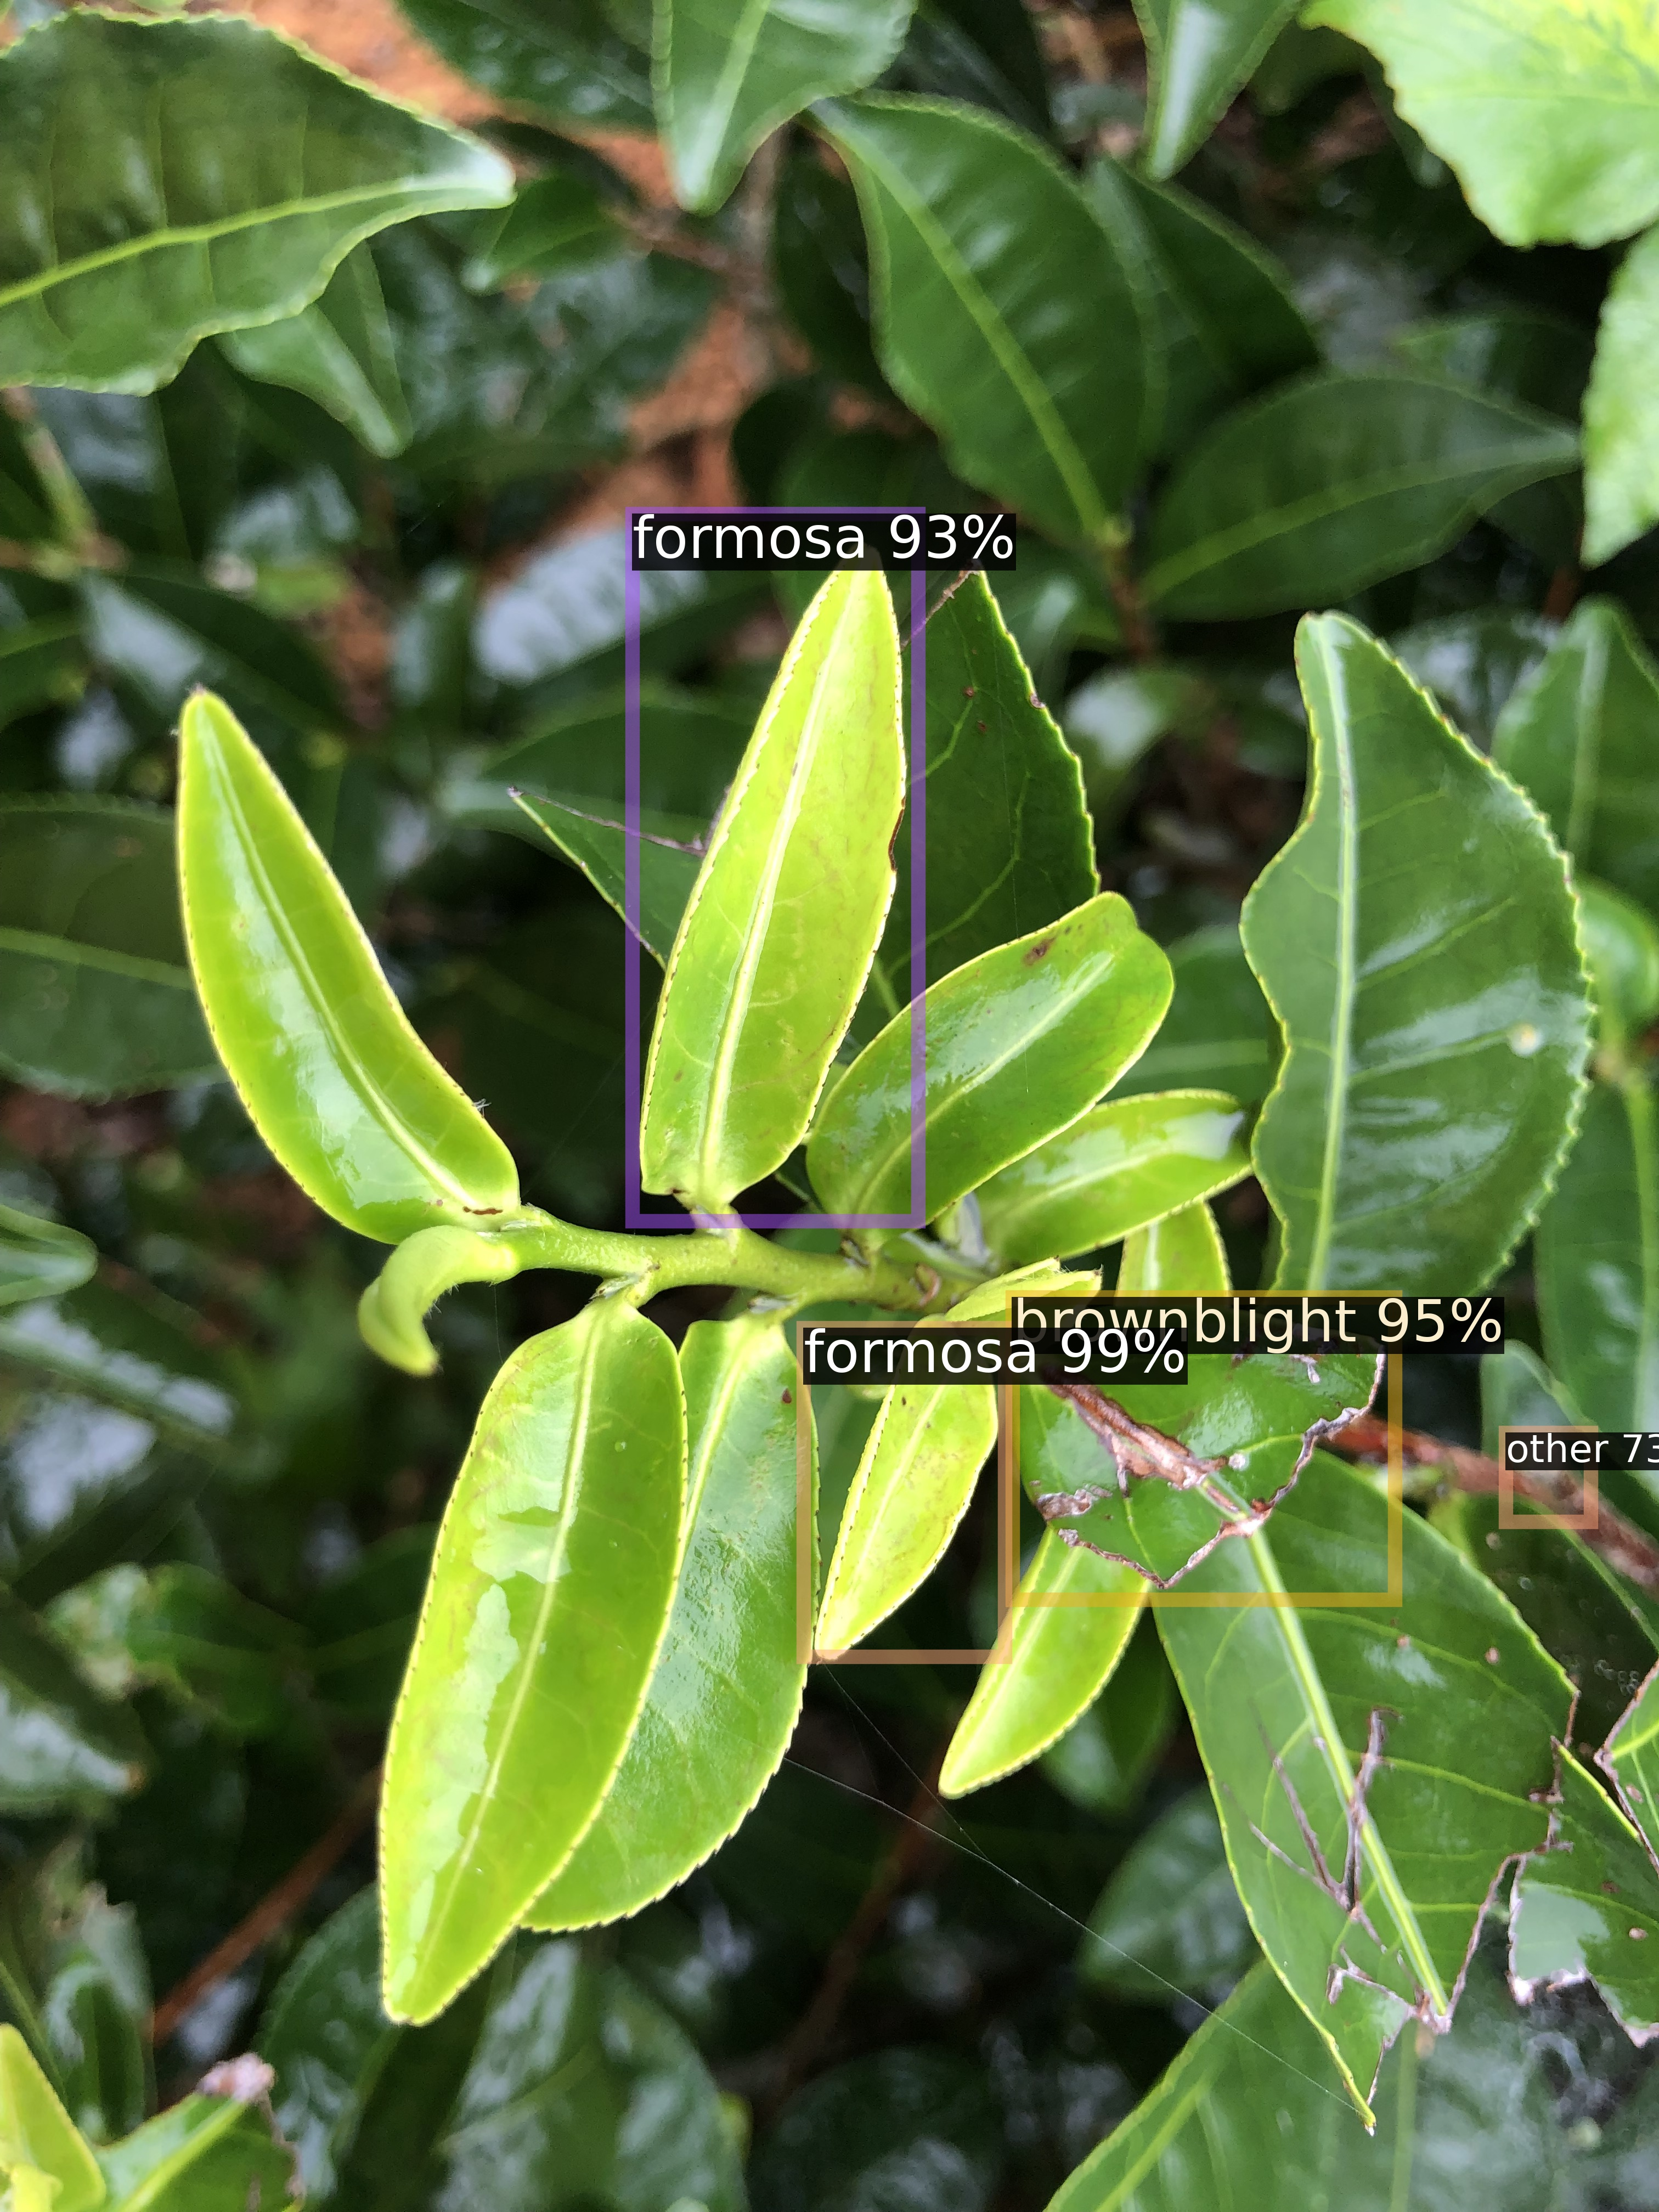brownblight: (1012, 1298, 1394, 1599)
formosa: (633, 514, 918, 1221), (803, 1329, 1004, 1656)
other: (1506, 1432, 1591, 1521)
